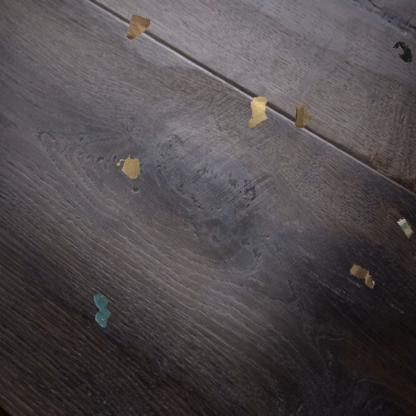dirty: (245, 94, 270, 130), (124, 12, 152, 43), (348, 262, 374, 290), (390, 40, 415, 65), (293, 102, 315, 130), (396, 216, 416, 238)
liquid: (92, 292, 113, 327), (115, 153, 142, 180)
